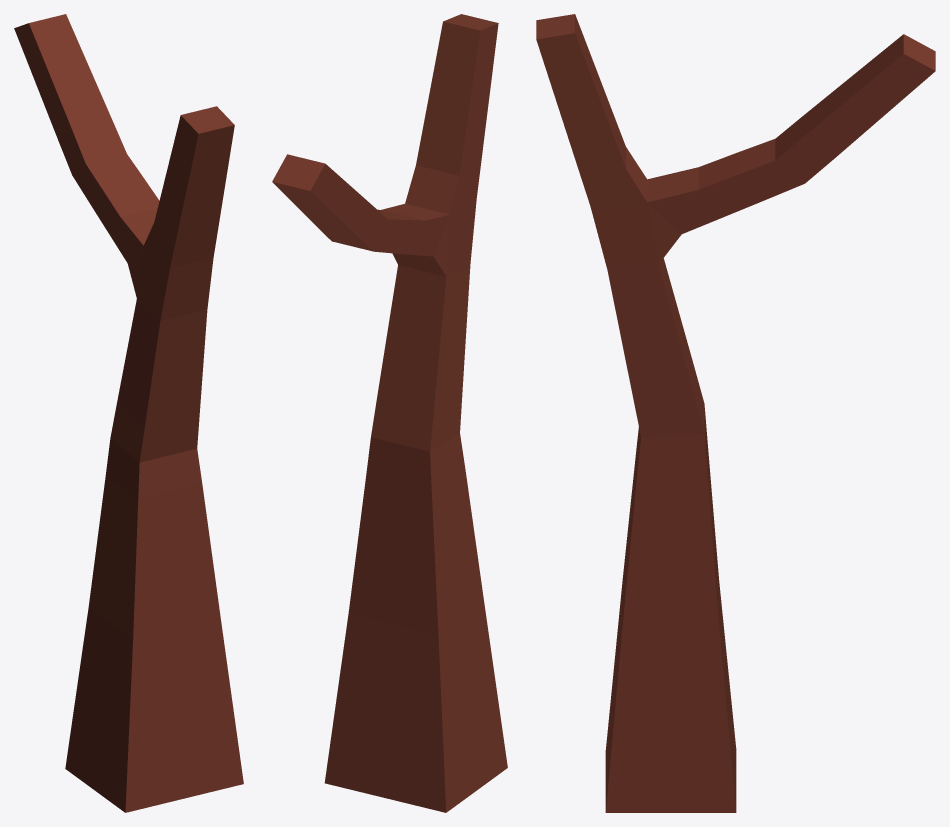
Rendered from Trunk2_low.fbx.
3 renders of one model, left to right at view 1: azimuth 30°, elevation 25°; view 2: azimuth 150°, elevation 25°; view 3: azimuth 270°, elevation 25°, orthographic. The views are drawn at different scales.
Parts seen in each view (by area): view 1: Trunk.006; view 2: Trunk.006; view 3: Trunk.006.
Boxes of the visible parts, x1,y1,x2,y2 form: Trunk.006: [14, 14, 243, 812]; Trunk.006: [272, 14, 507, 812]; Trunk.006: [536, 14, 935, 812].
Bounding box in the file's own units: 14.14 × 79.63 × 38.04.
